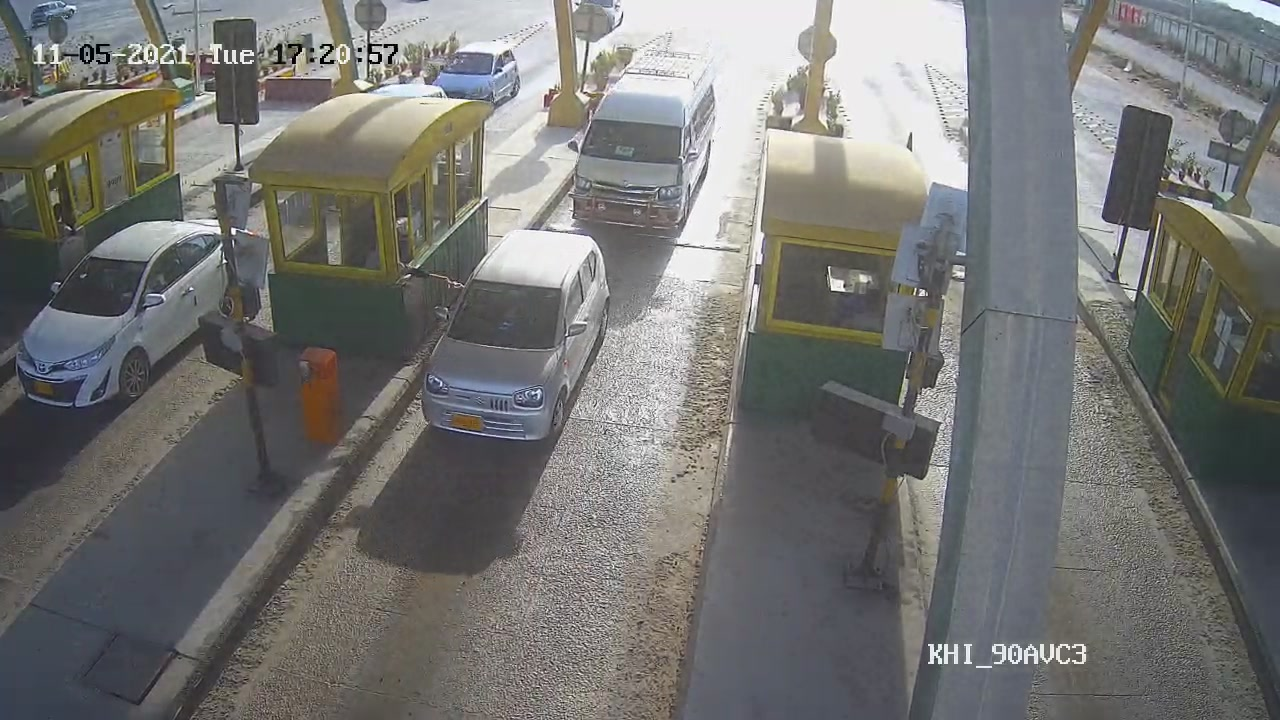F1: (419, 226, 618, 455)
F2: (565, 34, 724, 244)
